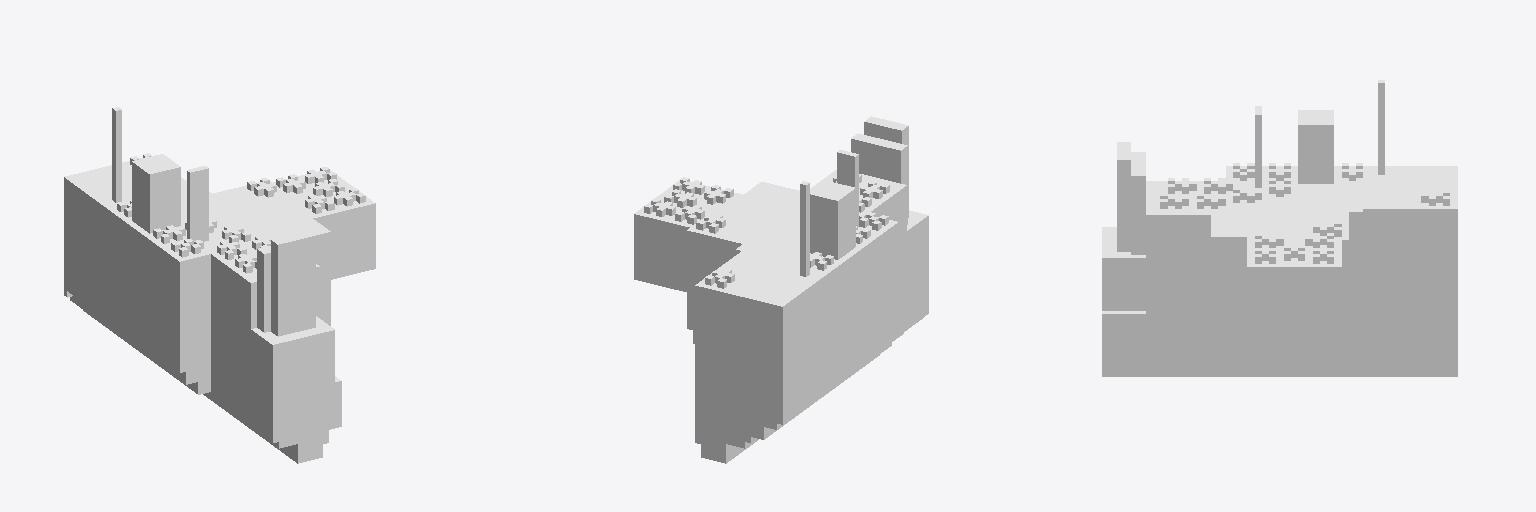
Rendered from aircraft_carrier.obj.
3 views of the same model, side by side, from view 1: azimuth 30°, elevation 25°; view 2: azimuth 150°, elevation 25°; view 3: azimuth 270°, elevation 25° (orthographic).
Bounding box in the file's own units: 33 × 40 × 49.